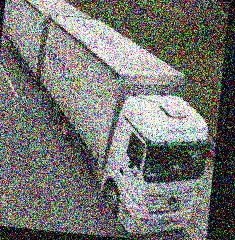truck: (0, 0, 223, 240)
